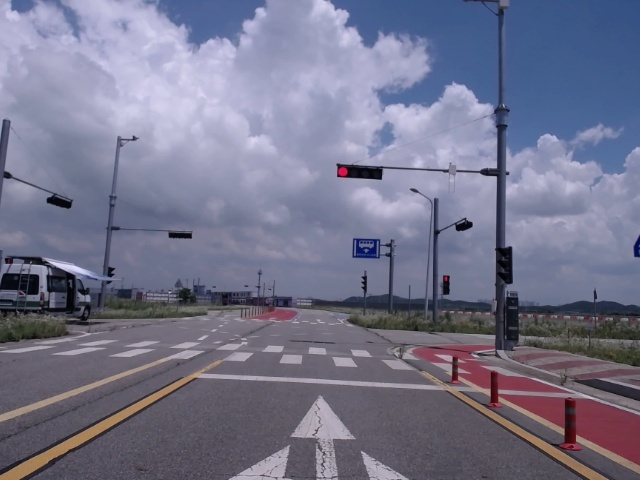red_4: (337, 166, 382, 179)
